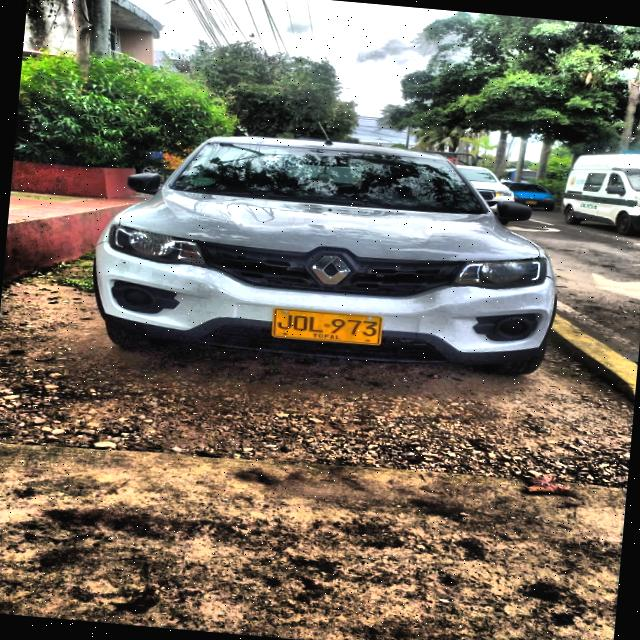plate: (273, 308, 381, 344)
